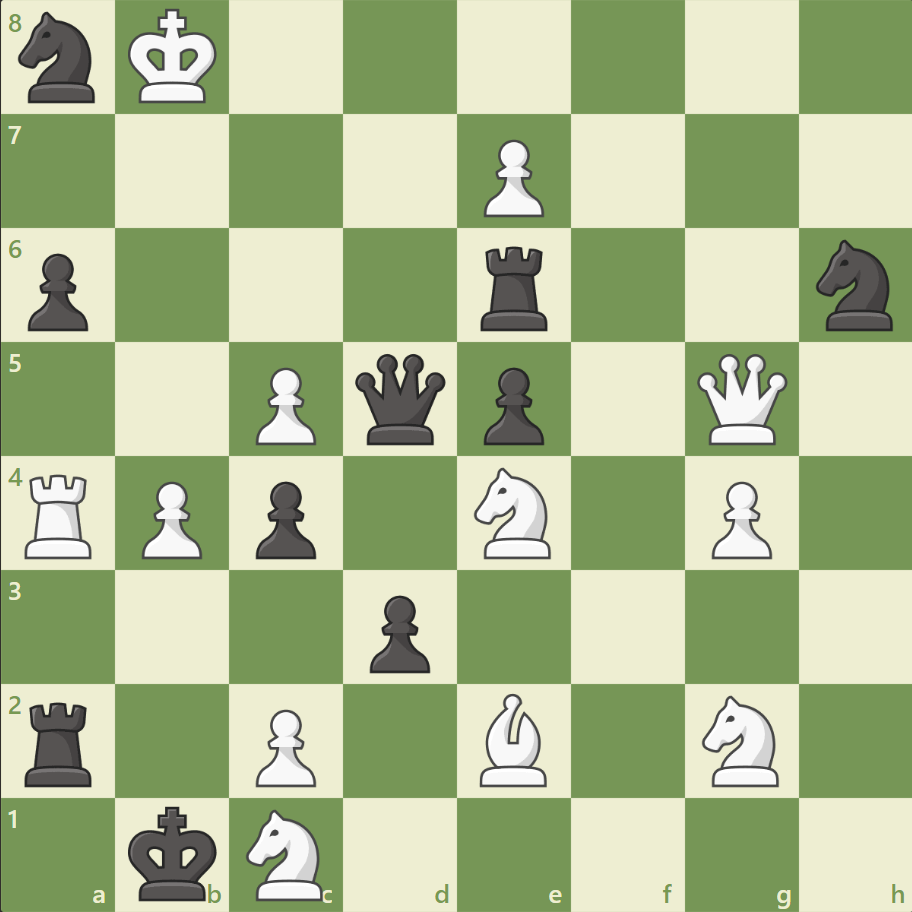B: (471, 687, 555, 790)
K: (124, 4, 224, 112)
N: (465, 461, 562, 564), (692, 688, 789, 791), (238, 802, 335, 904)
P: (474, 132, 549, 223), (247, 359, 322, 450), (133, 473, 208, 564), (701, 473, 776, 564), (247, 700, 322, 791)
Q: (691, 349, 790, 449)
R: (19, 466, 102, 563)
k: (124, 798, 224, 906)
n: (11, 7, 108, 110), (806, 234, 903, 337)
p: (20, 246, 95, 337), (474, 359, 549, 450), (247, 473, 322, 564), (361, 586, 435, 677)
q: (351, 349, 450, 449)
r: (473, 239, 556, 336), (19, 693, 102, 790)
